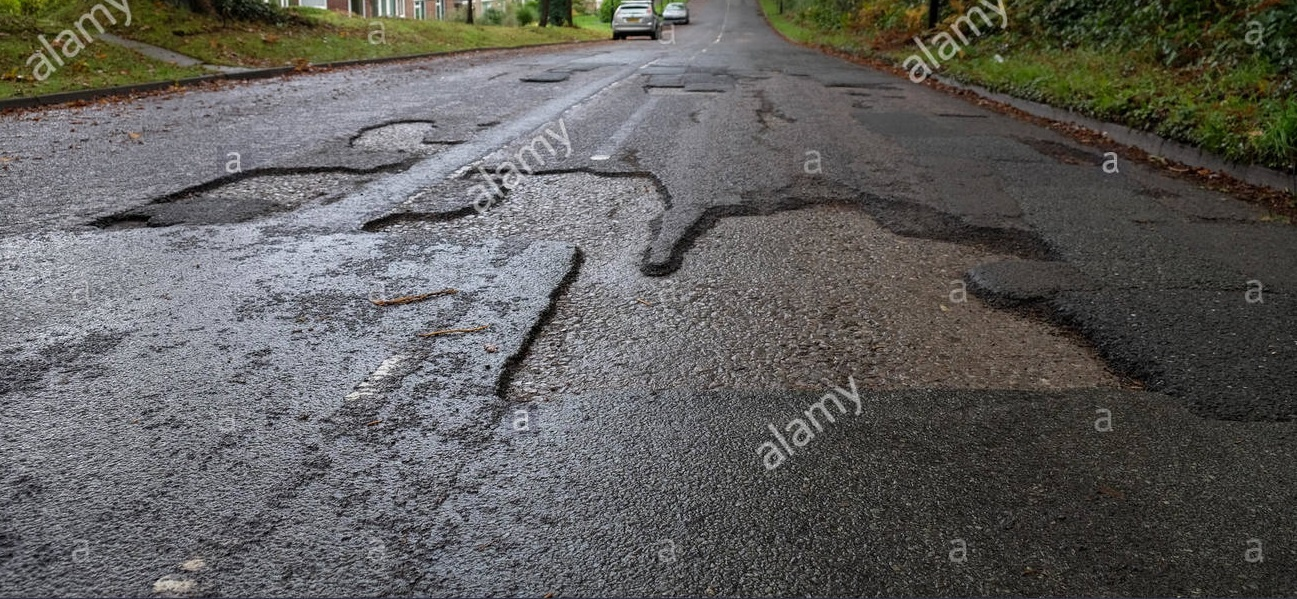pothole: (971, 274, 1170, 412), (931, 193, 1086, 298), (161, 147, 410, 203), (82, 180, 196, 281), (324, 98, 445, 173)
